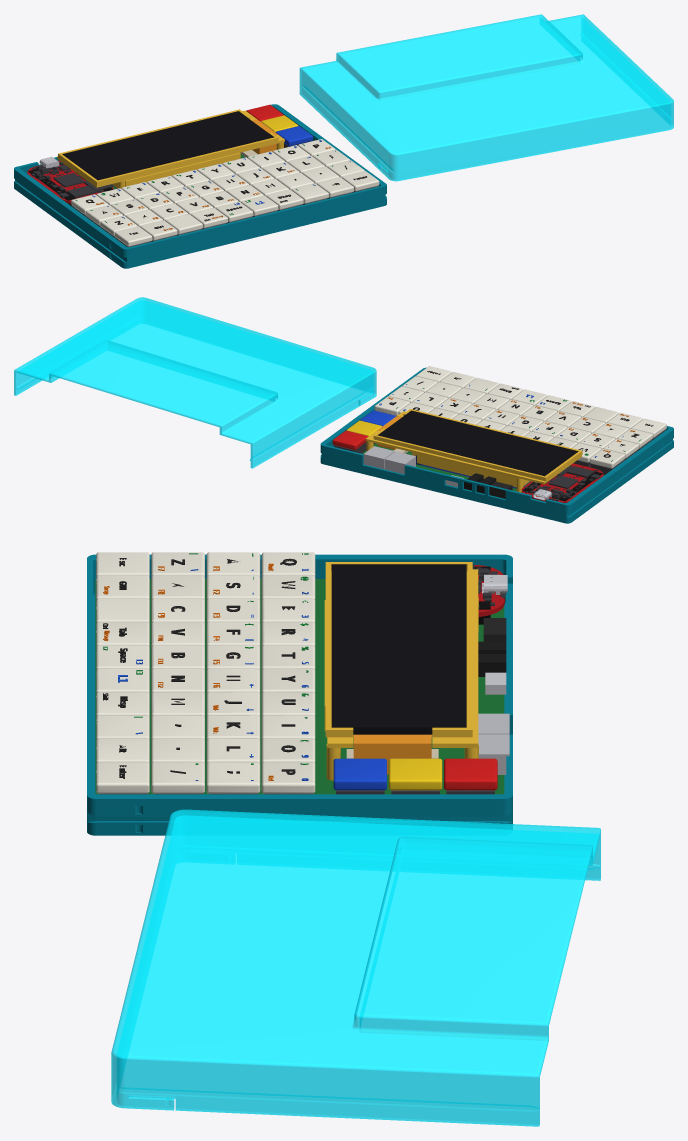
The model's file is beside_bondi.glb.
3 views of the same model, one above another, from view 1: azimuth 30°, elevation 25°; view 2: azimuth 150°, elevation 25°; view 3: azimuth 270°, elevation 25° (orthographic). The views are drawn at different scales.
Visible parts, largest first — view 1: Lid, Internals, Tray; view 2: Lid, Internals, Tray; view 3: Lid, Internals, Tray.
Part boxes in pixels (x1=…): Lid: x1=299, y1=14, x2=673, y2=181; Internals: x1=27, y1=104, x2=379, y2=247; Tray: x1=14, y1=104, x2=386, y2=268; Lid: x1=14, y1=297, x2=376, y2=468; Internals: x1=332, y1=366, x2=666, y2=502; Tray: x1=320, y1=367, x2=673, y2=523; Lid: x1=111, y1=809, x2=600, y2=1126; Internals: x1=95, y1=552, x2=509, y2=794; Tray: x1=87, y1=554, x2=512, y2=835.
Size of the model in its own units: 0.3903 by 0.0227 by 0.1583.
